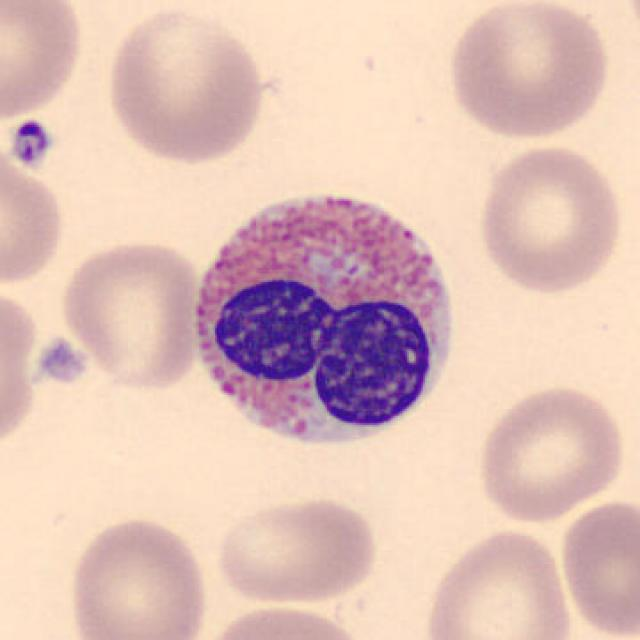Eosinophil: (182, 170, 468, 466)
Platelets: (36, 337, 94, 392), (7, 116, 55, 171)
RBC: (102, 3, 268, 165), (441, 0, 613, 143), (473, 139, 627, 296), (55, 235, 205, 392), (471, 381, 629, 525), (210, 492, 382, 608), (64, 513, 213, 640), (420, 525, 574, 640), (556, 496, 638, 638), (0, 0, 89, 122), (0, 144, 69, 290), (0, 282, 43, 457), (194, 599, 373, 640), (615, 0, 640, 48)
